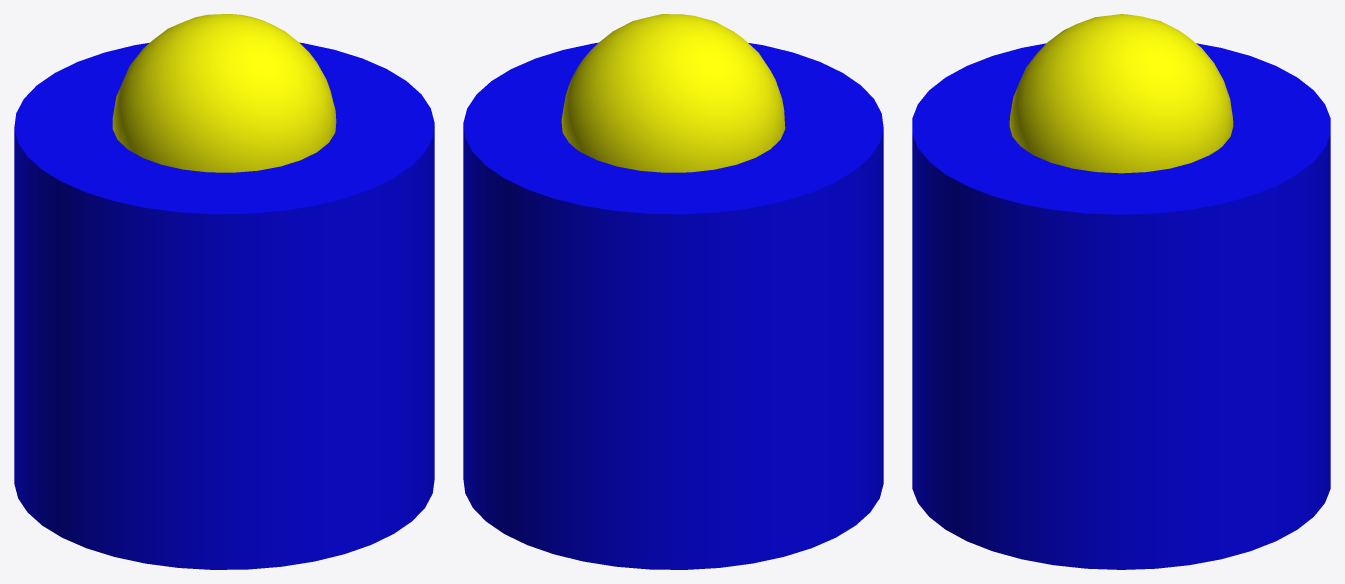
The model's file is cy_camera.dae.
3 renders of one model, left to right at view 1: azimuth 30°, elevation 25°; view 2: azimuth 150°, elevation 25°; view 3: azimuth 270°, elevation 25°, orthographic.
Parts seen in each view (by area): view 1: PartBody; view 2: PartBody; view 3: PartBody.
Boxes of the visible parts, x1=… form: PartBody: x1=14, y1=14, x2=434, y2=569; PartBody: x1=463, y1=14, x2=883, y2=569; PartBody: x1=912, y1=14, x2=1330, y2=569.
Size of the model in its own units: 2.95 by 2.94 by 3.54.
